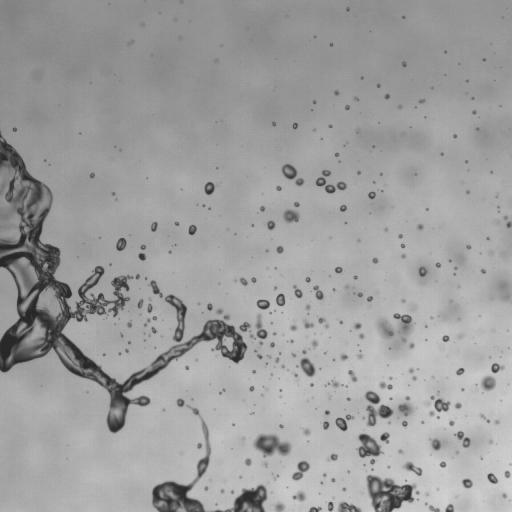droplet: (366, 474, 418, 511), (376, 313, 413, 342), (365, 390, 393, 426), (253, 434, 291, 457), (357, 433, 382, 464), (315, 170, 346, 193), (429, 396, 450, 416), (298, 357, 315, 377), (292, 460, 309, 480), (335, 414, 353, 430), (398, 396, 413, 415), (481, 375, 495, 390), (283, 209, 299, 222), (204, 182, 216, 194), (313, 285, 323, 299), (292, 491, 306, 501), (116, 237, 126, 250), (256, 299, 269, 309), (491, 363, 504, 373), (430, 438, 440, 450), (293, 285, 302, 298), (276, 293, 285, 306), (379, 381, 392, 389), (487, 473, 497, 483), (462, 478, 472, 488), (239, 322, 250, 331), (380, 432, 389, 443), (418, 266, 427, 276), (303, 319, 313, 328), (275, 501, 284, 511), (267, 220, 275, 229), (188, 225, 196, 234), (176, 398, 184, 407), (444, 504, 454, 511), (239, 277, 247, 285), (327, 454, 337, 460), (327, 501, 333, 511), (290, 323, 297, 331), (456, 368, 464, 375), (322, 421, 329, 429), (504, 470, 511, 478), (151, 222, 157, 231), (368, 191, 375, 198), (276, 246, 283, 253), (138, 253, 145, 260), (354, 322, 361, 329), (303, 428, 310, 435), (137, 299, 143, 307), (340, 354, 348, 360), (335, 267, 342, 273), (410, 304, 416, 311), (442, 335, 449, 341), (312, 340, 318, 347), (245, 458, 251, 465), (439, 461, 446, 467), (147, 304, 152, 312), (293, 372, 298, 380), (340, 205, 346, 211), (372, 257, 378, 263), (216, 308, 222, 314), (455, 402, 461, 408), (207, 303, 212, 310), (417, 224, 423, 229), (151, 327, 156, 333), (357, 352, 362, 358), (260, 206, 265, 211), (506, 222, 511, 227), (134, 274, 139, 279), (305, 277, 310, 282), (367, 296, 372, 301), (359, 333, 364, 338), (409, 343, 414, 348), (402, 421, 407, 426), (449, 420, 454, 425), (127, 321, 131, 327), (334, 90, 338, 95), (419, 99, 424, 103), (293, 123, 297, 128), (276, 186, 281, 190), (294, 202, 299, 206), (174, 221, 179, 225), (140, 245, 145, 249), (251, 277, 255, 282), (358, 292, 362, 297), (306, 304, 310, 309), (270, 342, 274, 347), (302, 349, 306, 354), (409, 368, 413, 373), (249, 386, 253, 391), (325, 410, 329, 415), (197, 443, 201, 448), (402, 62, 406, 66), (385, 94, 389, 98), (345, 105, 349, 109), (472, 110, 476, 114), (90, 173, 94, 177), (398, 234, 402, 238), (401, 254, 405, 258), (436, 263, 440, 267), (481, 269, 485, 273), (458, 334, 462, 338), (275, 358, 279, 362), (412, 376, 416, 380), (425, 401, 429, 405), (398, 449, 402, 453), (331, 478, 335, 482), (342, 487, 346, 491), (230, 490, 234, 494), (502, 493, 506, 497), (467, 245, 470, 249), (495, 420, 498, 424), (220, 489, 224, 492), (355, 97, 358, 100), (398, 105, 401, 108), (272, 122, 275, 125), (453, 134, 456, 137), (335, 153, 338, 156), (357, 171, 360, 174), (401, 244, 404, 247), (459, 261, 462, 264), (354, 276, 357, 279), (125, 349, 128, 352), (292, 353, 295, 356), (282, 365, 285, 368), (185, 366, 188, 369), (347, 397, 350, 400), (279, 424, 282, 427), (264, 463, 267, 466), (289, 340, 293, 342), (346, 8, 349, 10), (13, 128, 16, 130), (346, 285, 348, 288), (402, 299, 404, 302), (339, 321, 342, 323), (273, 332, 275, 335), (389, 377, 392, 379), (310, 383, 313, 385), (242, 437, 244, 440), (275, 475, 277, 478), (204, 487, 207, 489), (329, 125, 331, 127), (274, 287, 276, 289), (506, 296, 508, 298), (268, 355, 270, 357), (323, 474, 325, 476)
ligament: (0, 133, 244, 433), (152, 405, 211, 511), (211, 484, 267, 511), (249, 313, 267, 345), (281, 164, 303, 186), (403, 461, 422, 475), (455, 430, 470, 447), (337, 501, 361, 511), (149, 280, 162, 297), (326, 380, 342, 387), (318, 317, 328, 328), (144, 316, 156, 325), (348, 370, 357, 381), (480, 414, 489, 422), (428, 505, 440, 511), (308, 506, 321, 511), (0, 180, 6, 190), (256, 353, 261, 359), (0, 227, 1, 231)
